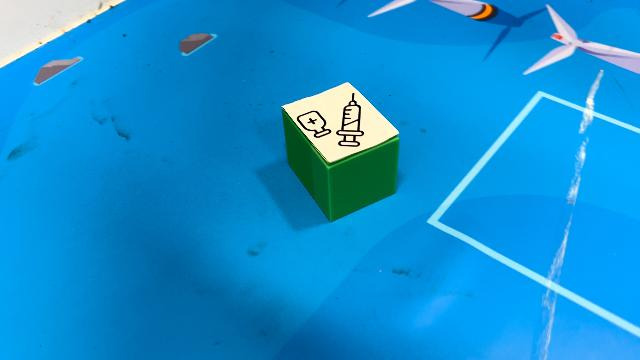syringe: (280, 80, 402, 222)
